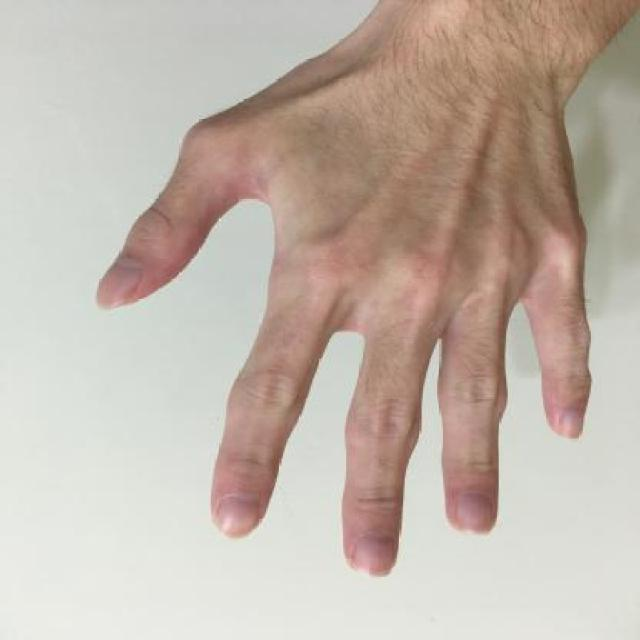bare_hand: (89, 20, 620, 589)
